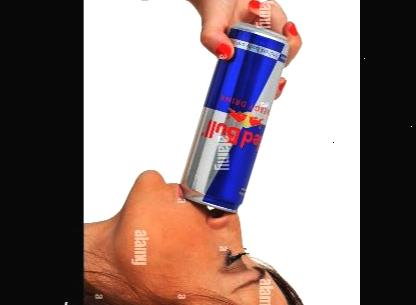Can: (180, 17, 291, 216)
